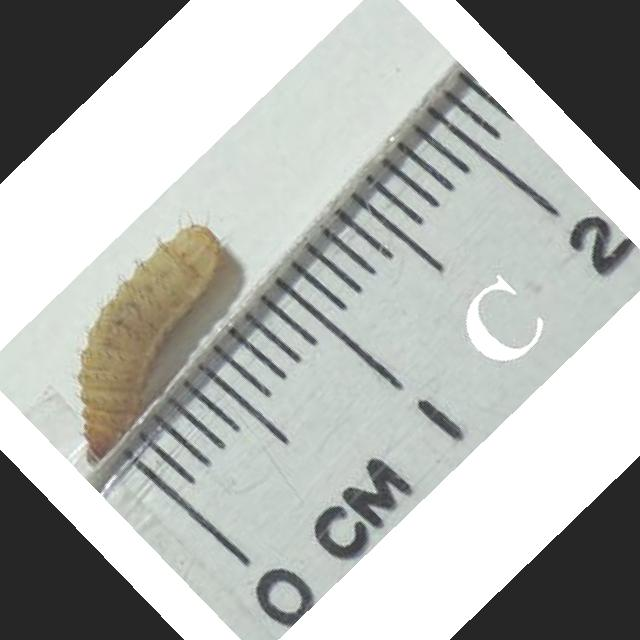Maggot: (81, 225, 224, 467)
